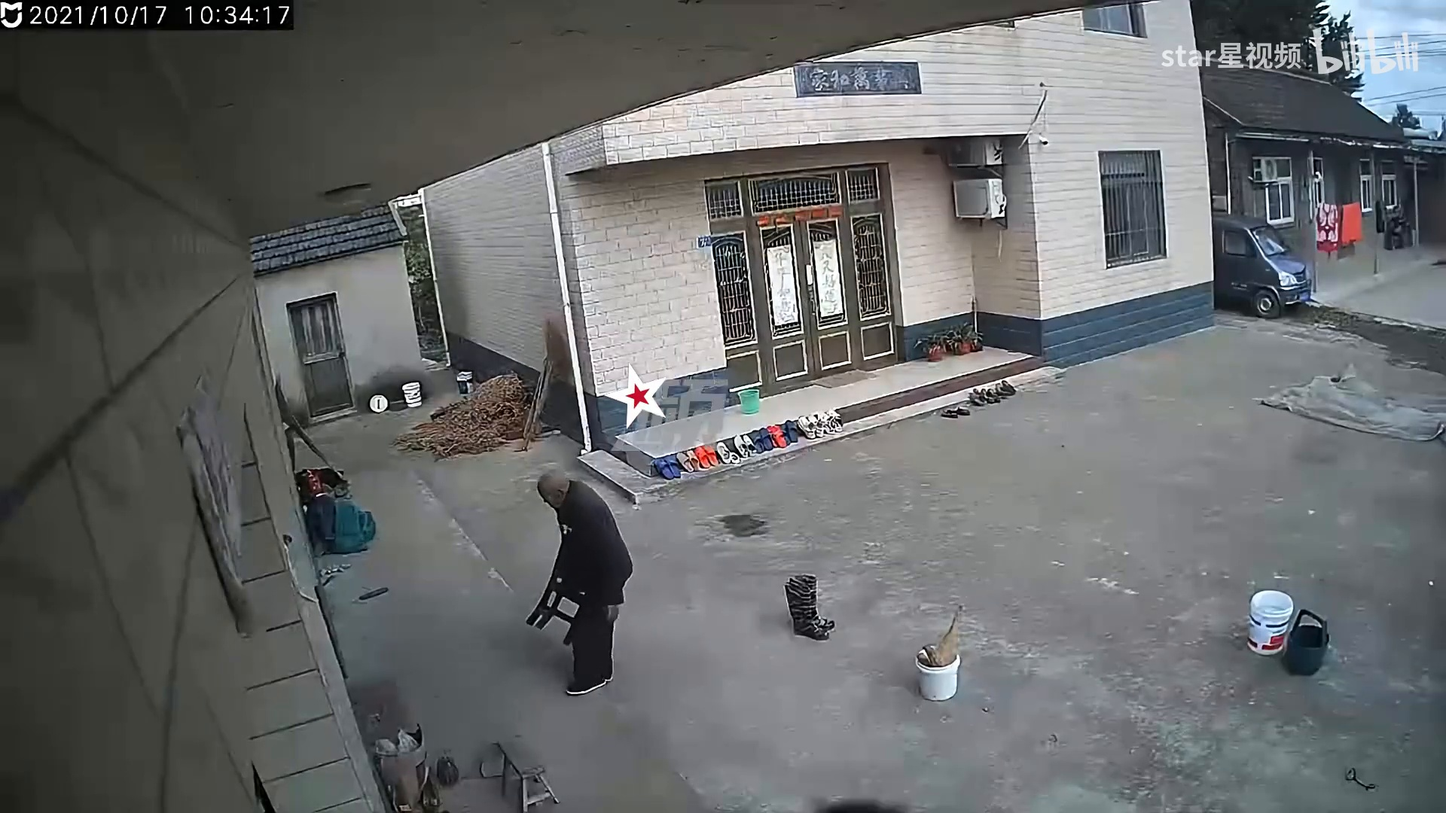stand: (535, 472, 633, 695)
